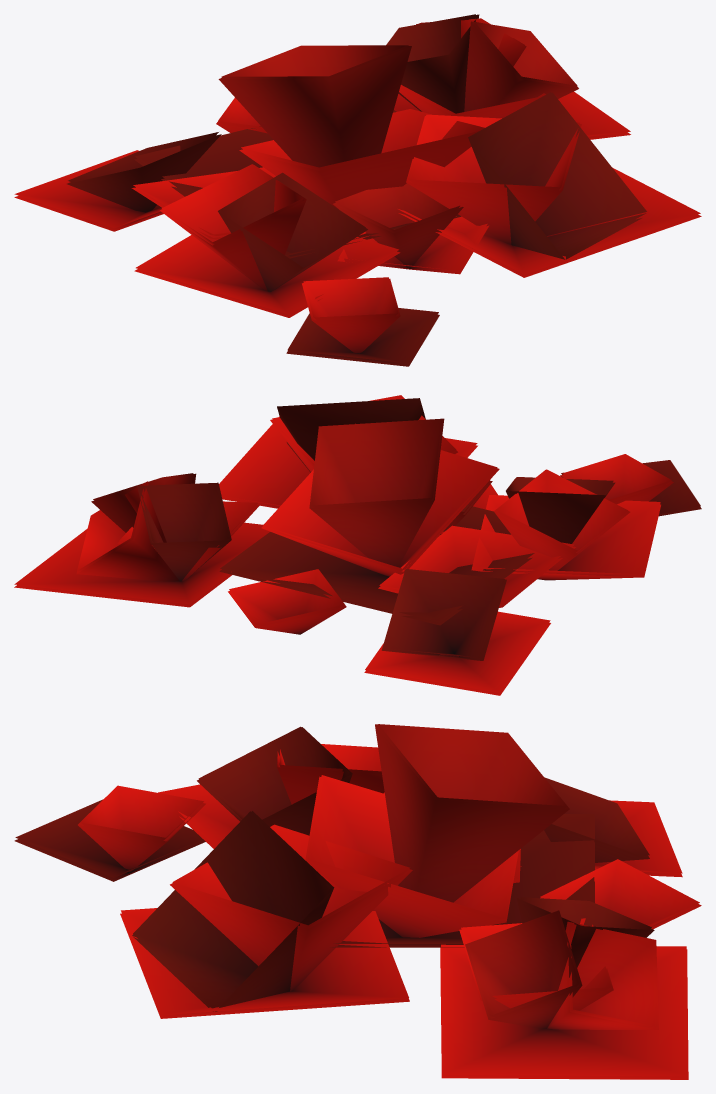
Rendered from TinyW14_AFS_high.FBX.
The picture shows the model from 3 angles, top to bottom: view 1: azimuth 30°, elevation 25°; view 2: azimuth 150°, elevation 25°; view 3: azimuth 270°, elevation 25°; orthographic projection. The views are drawn at different scales.
Visible parts, largest first — view 1: TinyW14_AFS_high; view 2: TinyW14_AFS_high; view 3: TinyW14_AFS_high.
Boxes of the visible parts, <box> form: TinyW14_AFS_high: <box>14,14,701,366</box>; TinyW14_AFS_high: <box>14,395,701,695</box>; TinyW14_AFS_high: <box>14,724,701,1079</box>.
Bounding box in the file's own units: 0.7115 × 0.2222 × 0.7141.
